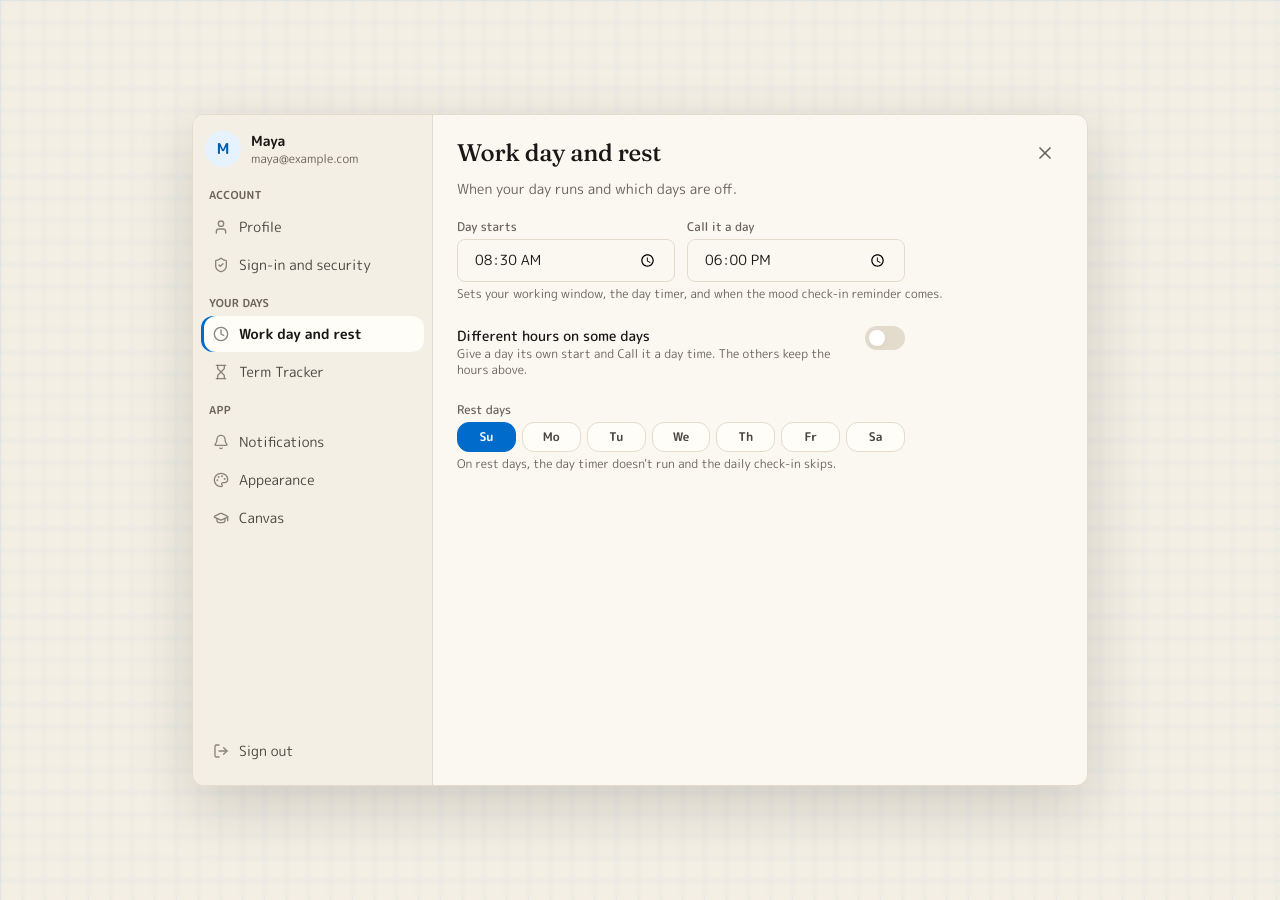
Scenario: SettingsModal autosave › different hours on some days › doesn't save a window missing a time
The width and height of the screenshot is (1280, 900).
Click the switch: [885, 338] box [865,326,905,350]
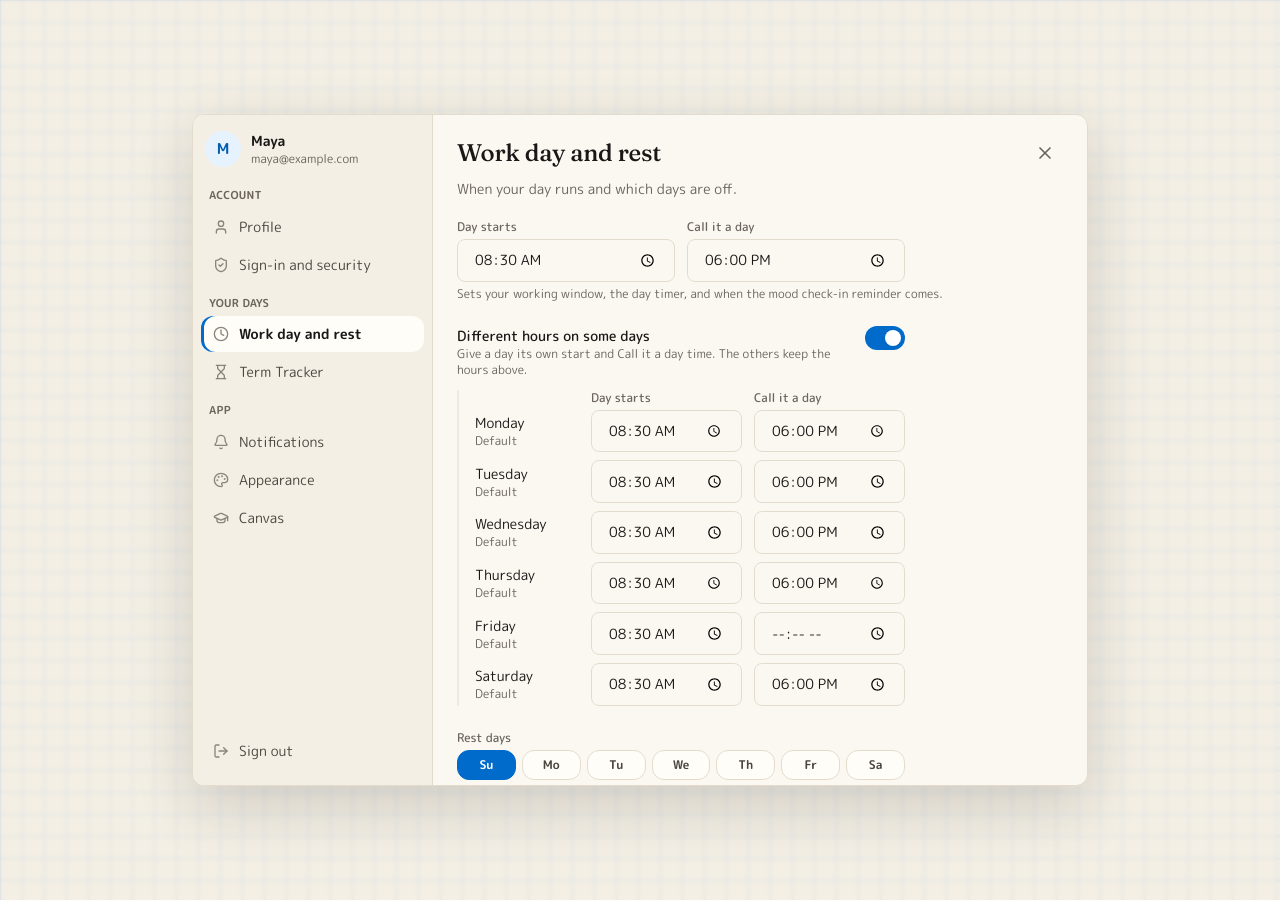
Clear the time field named "Friday: call it a day": [830, 634] box [754,612,905,655]
Wait 600 ms
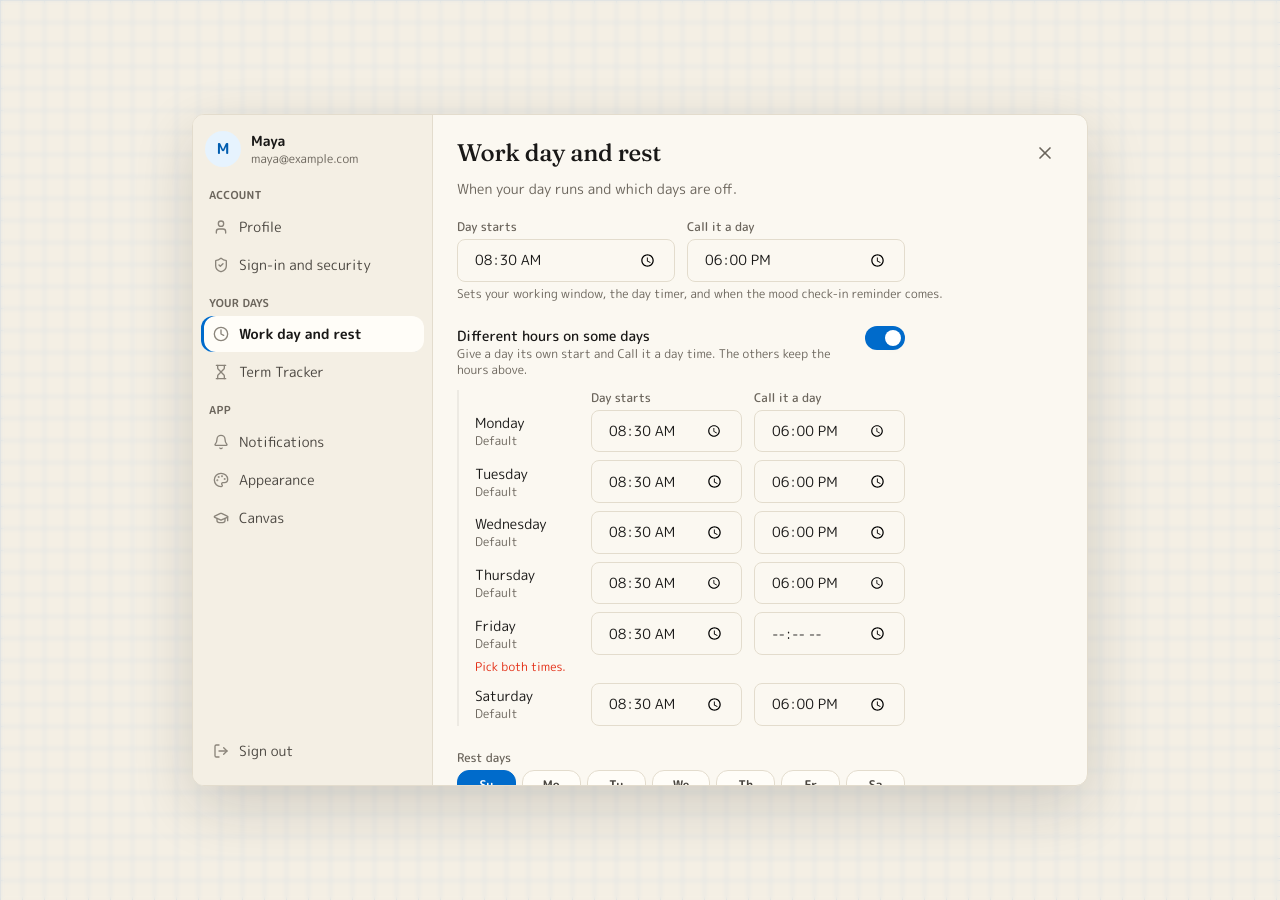
Result: the text "Pick both times." is shown at [475,658,566,675]
